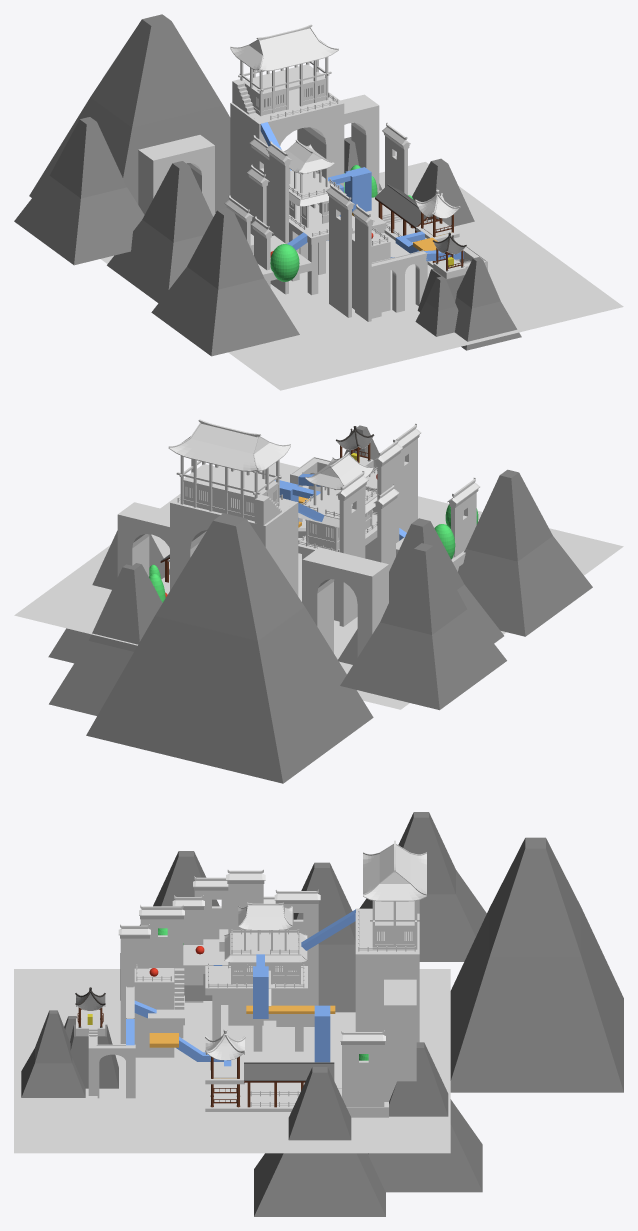
The picture shows the model from 3 angles, top to bottom: view 1: azimuth 30°, elevation 25°; view 2: azimuth 150°, elevation 25°; view 3: azimuth 270°, elevation 25°; orthographic projection. The views are drawn at different scales.
Visible parts, largest first — view 1: 平面.001, 立方体.071, 立方体.065, 立方体.064, 立方体.063, 立方体.012, 立方体.069, 立方体.029, 立方体.179, 立方体.030, 立方体, 立方体.051 (+20 smaller); view 2: 立方体.071, 立方体.064, 立方体.065, 平面.001, 立方体.069, 立方体.050, 立方体.012, 立方体.179, 立方体.063, 立方体.037, 立方体.051, 立方体.030 (+10 smaller); view 3: 平面.001, 立方体.071, 立方体.051, 立方体.050, 立方体.064, 立方体.063, 立方体.012, 立方体.029, 立方体.069, 立方体.179, 立方体.005, 立方体.044 (+27 smaller).
Boxes of the visible parts, box(x1,y1,x2,y2) form: 平面.001: box(101, 162, 623, 390); 立方体.071: box(29, 14, 230, 212); 立方体.065: box(151, 208, 299, 356); 立方体.064: box(14, 117, 144, 265); 立方体.063: box(107, 161, 213, 302); 立方体.012: box(230, 88, 344, 213); 立方体.069: box(138, 94, 379, 216); 立方体.029: box(454, 257, 521, 350); 立方体.179: box(230, 28, 337, 69); 立方体.030: box(329, 196, 351, 317); 立方体: box(371, 250, 427, 318); 立方体.051: box(412, 158, 474, 227); 立方体.071: box(86, 513, 373, 783); 立方体.064: box(340, 543, 506, 710); 立方体.065: box(458, 469, 592, 636); 平面.001: box(14, 462, 623, 709); 立方体.069: box(117, 502, 388, 657); 立方体.050: box(49, 563, 162, 715); 立方体.012: box(170, 495, 298, 596); 立方体.179: box(169, 423, 290, 470); 立方体.063: box(338, 518, 503, 664); 立方体.037: box(339, 486, 365, 626); 立方体.051: box(48, 530, 169, 663); 立方体.030: box(399, 438, 417, 532); 平面.001: box(14, 969, 450, 1153); 立方体.071: box(450, 837, 623, 1092); 立方体.051: box(254, 1067, 385, 1216); 立方体.050: box(368, 1042, 482, 1192); 立方体.064: box(359, 812, 486, 961); 立方体.063: box(293, 862, 355, 1012); 立方体.012: box(355, 908, 419, 1042); 立方体.029: box(21, 1010, 85, 1097); 立方体.069: box(384, 979, 416, 1101); 立方体.179: box(363, 845, 426, 900); 立方体.005: box(134, 968, 174, 1057); 立方体.044: box(342, 1045, 384, 1106).
Bounding box in the file's own units: 11408 × 6834 × 13859.
